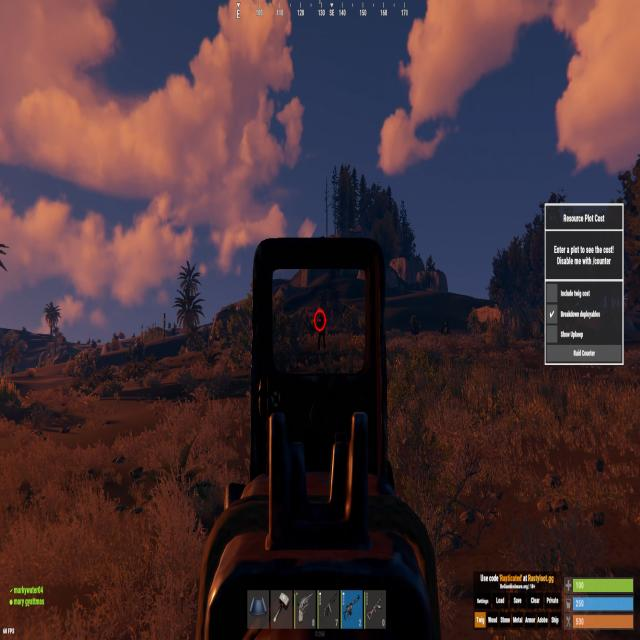Player: (317, 309, 327, 352)
